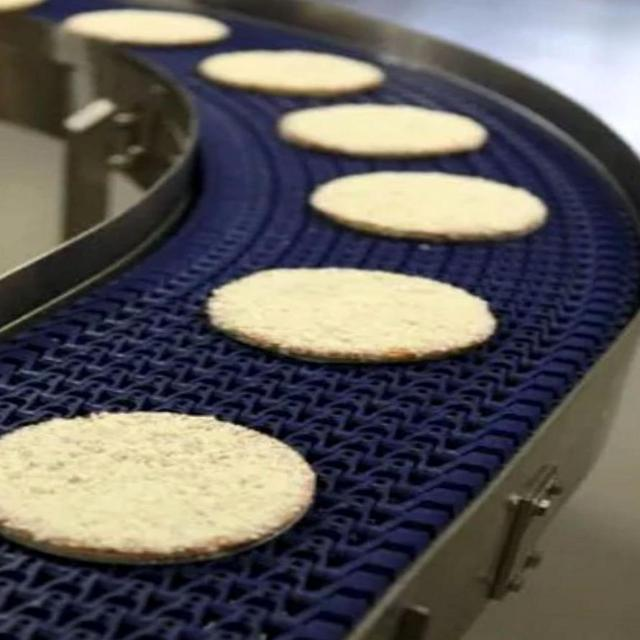food: (1, 409, 318, 566), (194, 248, 520, 372), (298, 158, 581, 252)
